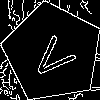V: (28, 28, 84, 84)
